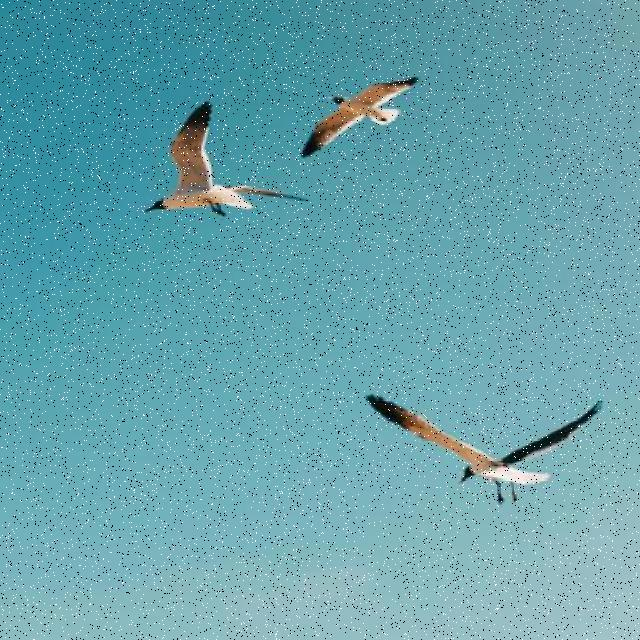bird: (366, 393, 604, 504), (142, 101, 312, 217), (303, 75, 420, 157)
